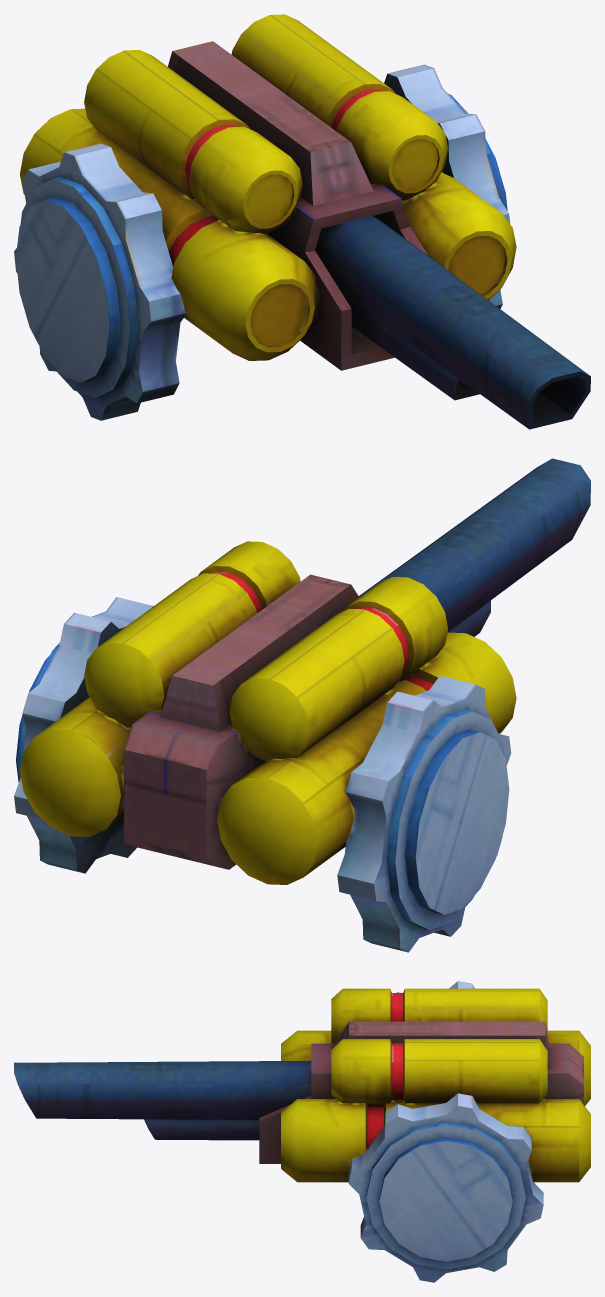
The model's file is TankA_.obj.
3 renders of one model, top to bottom at view 1: azimuth 30°, elevation 25°; view 2: azimuth 150°, elevation 25°; view 3: azimuth 270°, elevation 25°, orthographic. The views are drawn at different scales.
Parts seen in each view (by area): view 1: Object007; view 2: Object007; view 3: Object007.
Part boxes in pixels (x1=…): Object007: x1=14, y1=14, x2=590, y2=429; Object007: x1=14, y1=458, x2=590, y2=952; Object007: x1=14, y1=981, x2=590, y2=1282.
Bounding box in the file's own units: 22.91 × 15.67 × 40.27.
1 material, 1 textured.
